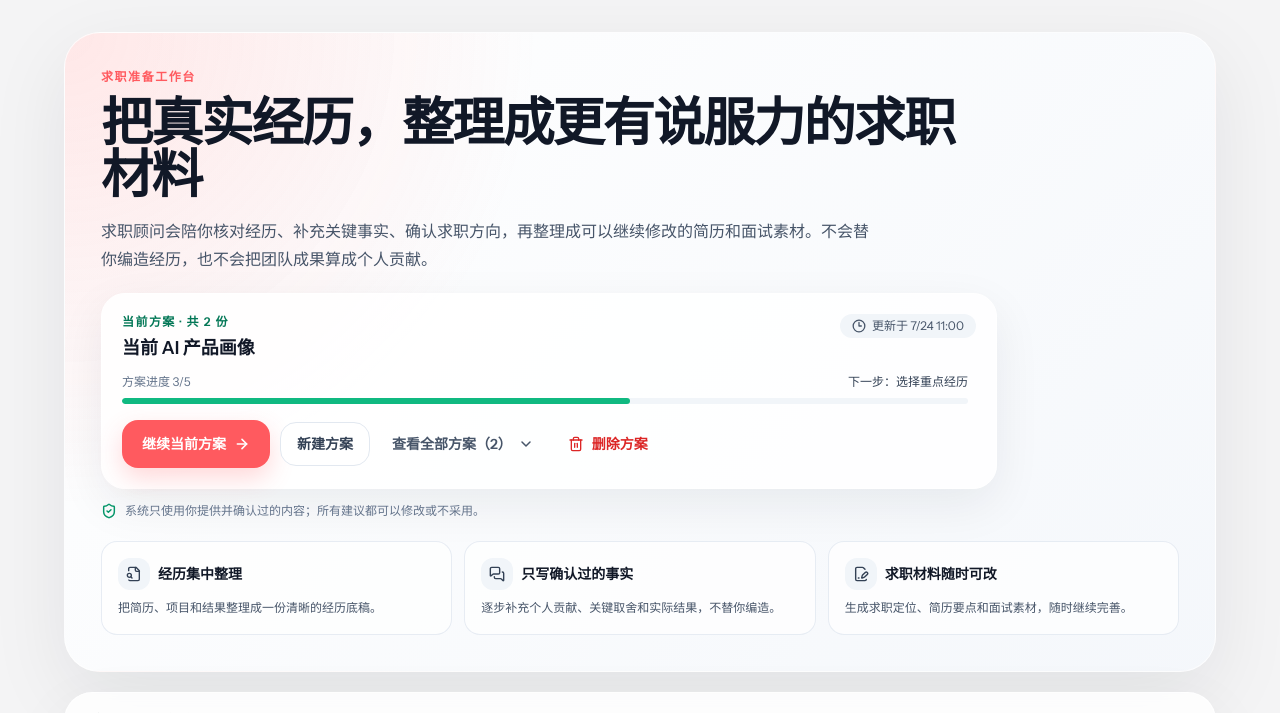
Test: App › reveals all drafts and continues a historical draft
Click the button "查看全部方案（2）" at x=463, y=444, box [380,422,546,466]
(page scrolled)
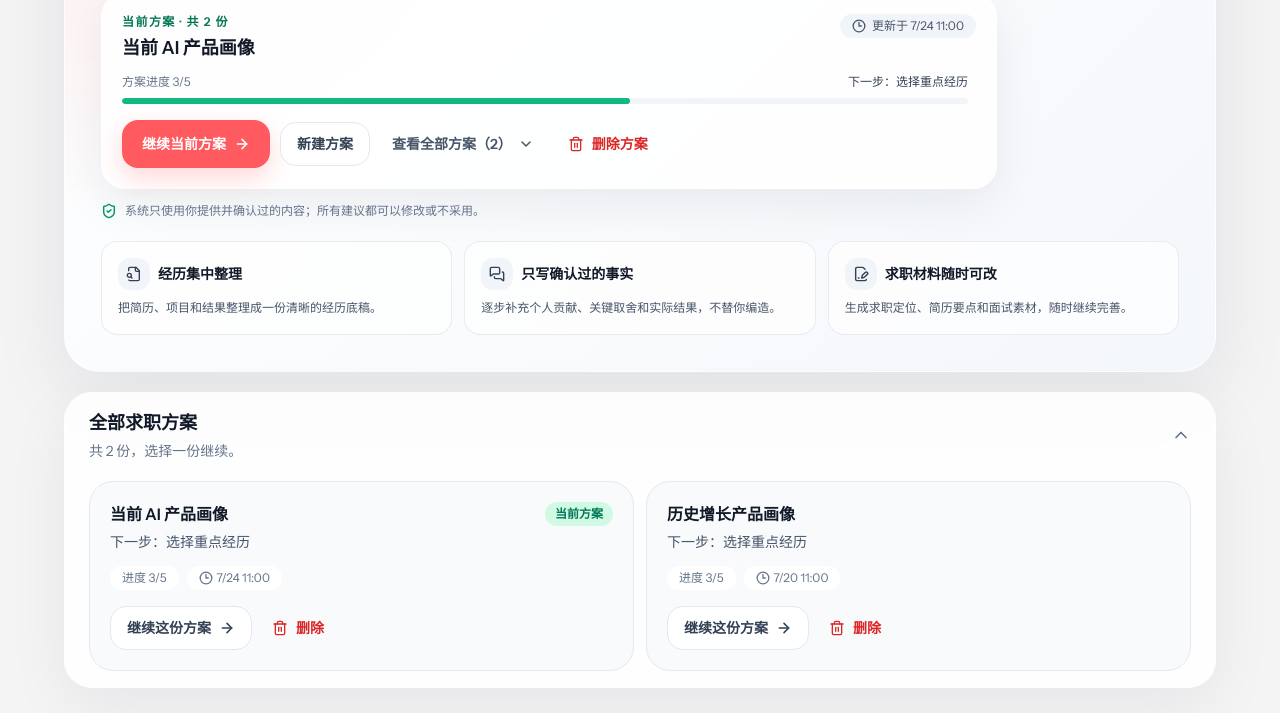
Expected: the heading "全部求职方案" is shown, [89,412,197,434]
Click the button with aria-label "继续方案：历史增长产品画像" at x=738, y=628, box [667,606,809,650]
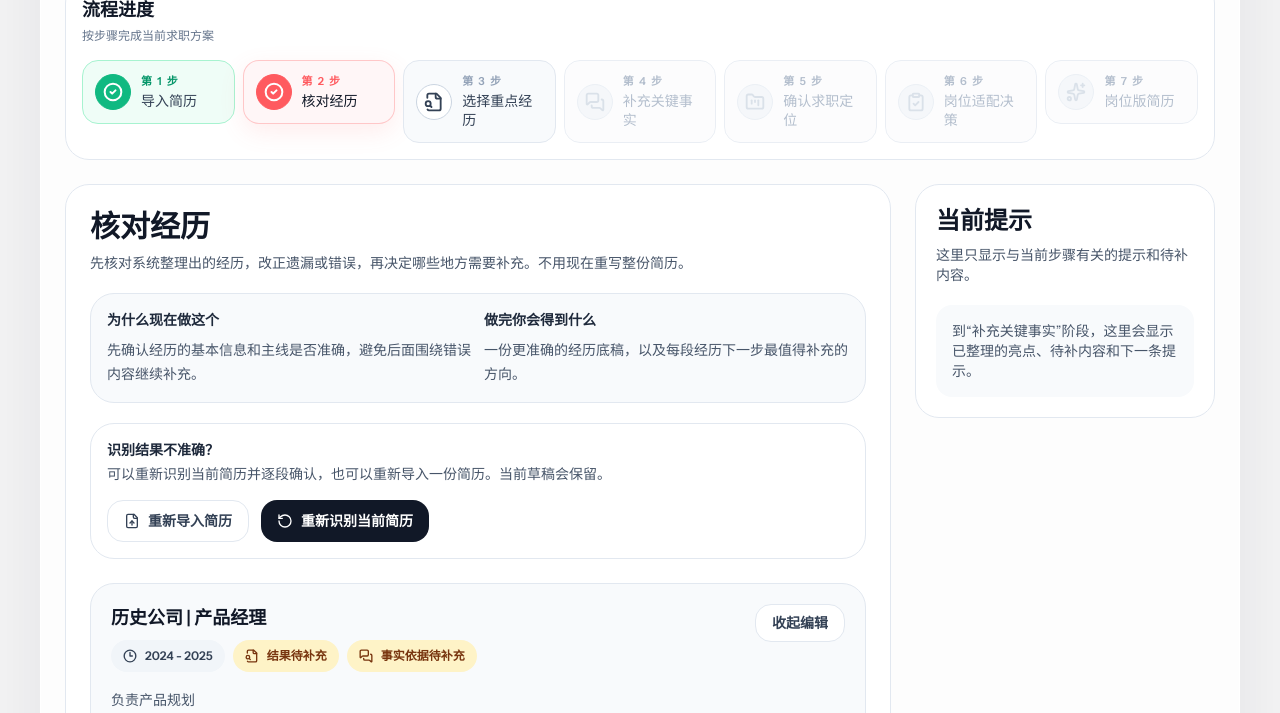
Now the heading "核对经历" is shown, box [90,208,210,245]
